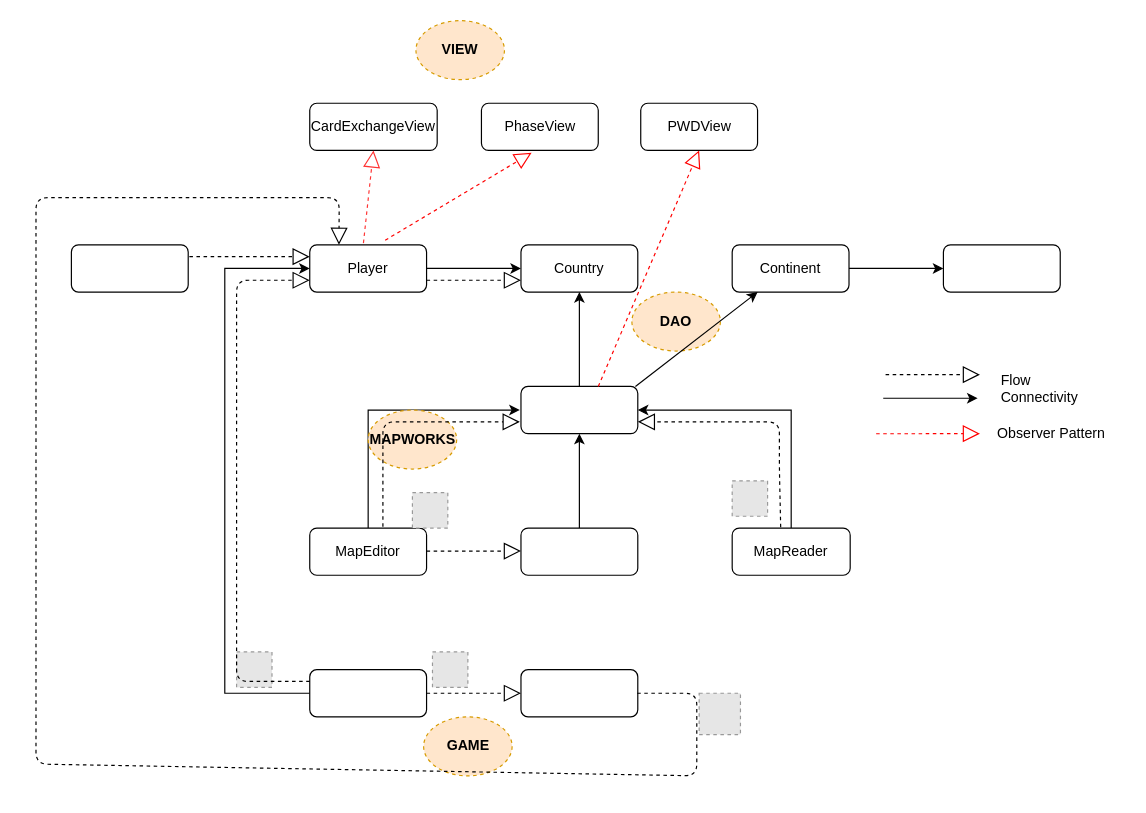
The diagram is 1146 pixels wide and 813 high, and some of its shapes have lost their labels. Grey dashed boxes stand in for pictures. The centre of each missing label's shape, as x and y in pixels:
ArmyAllocator: the point at 579,692
Bridge: the point at 1001,268
Dice: the point at 129,268
Map: the point at 579,409
MapSaver: the point at 579,551
PlayerAllocator: the point at 368,692
